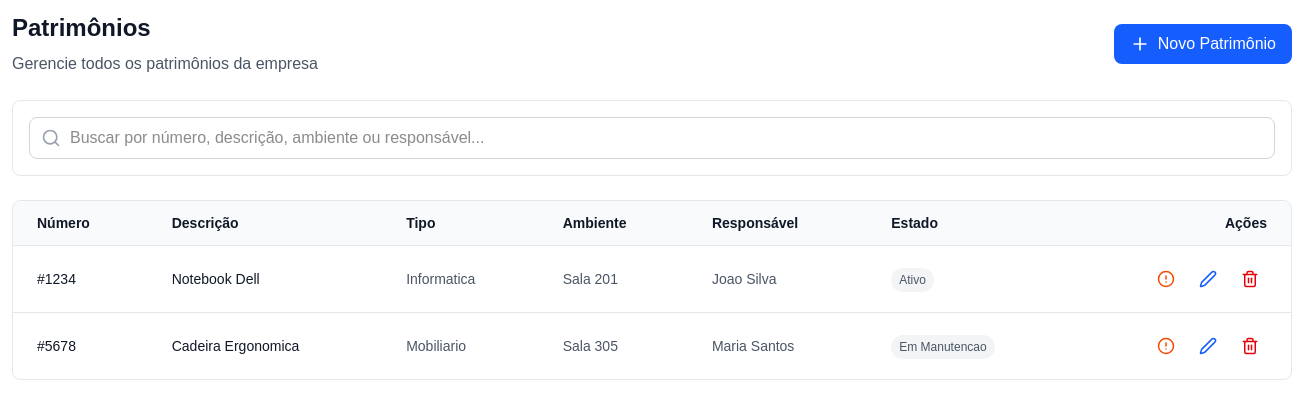
PatrimoniosList › filtra por descricao, ambiente e responsavel
expect the text "Notebook Dell" is shown: met, box [148,246,382,312]
In the field with placeholder "Buscar por número, descrição, ambiente ou responsável...": (652, 138) [29,117,1275,159], type "Maria"
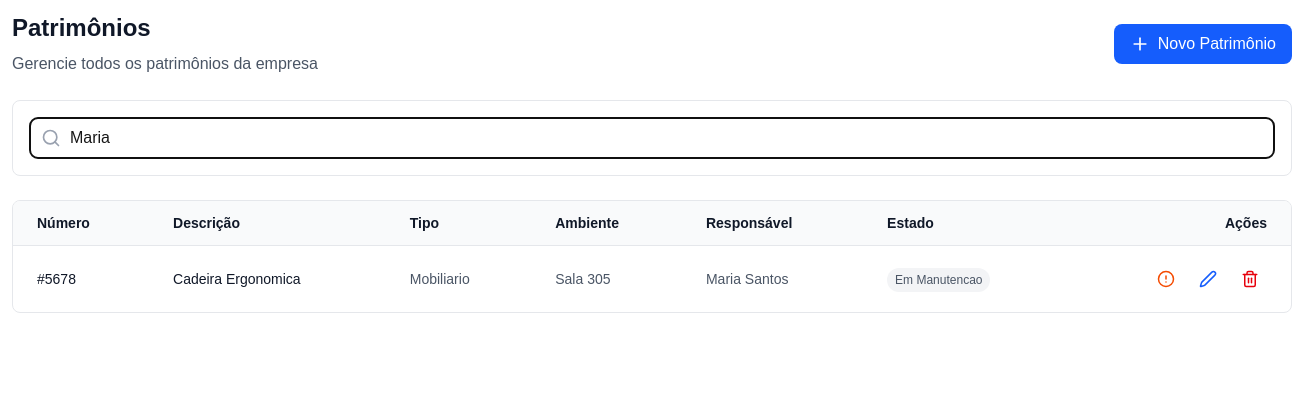
expect the text "Cadeira Ergonomica" is shown: met, box [149,246,386,312]
expect the text "Notebook Dell" is gone: met
